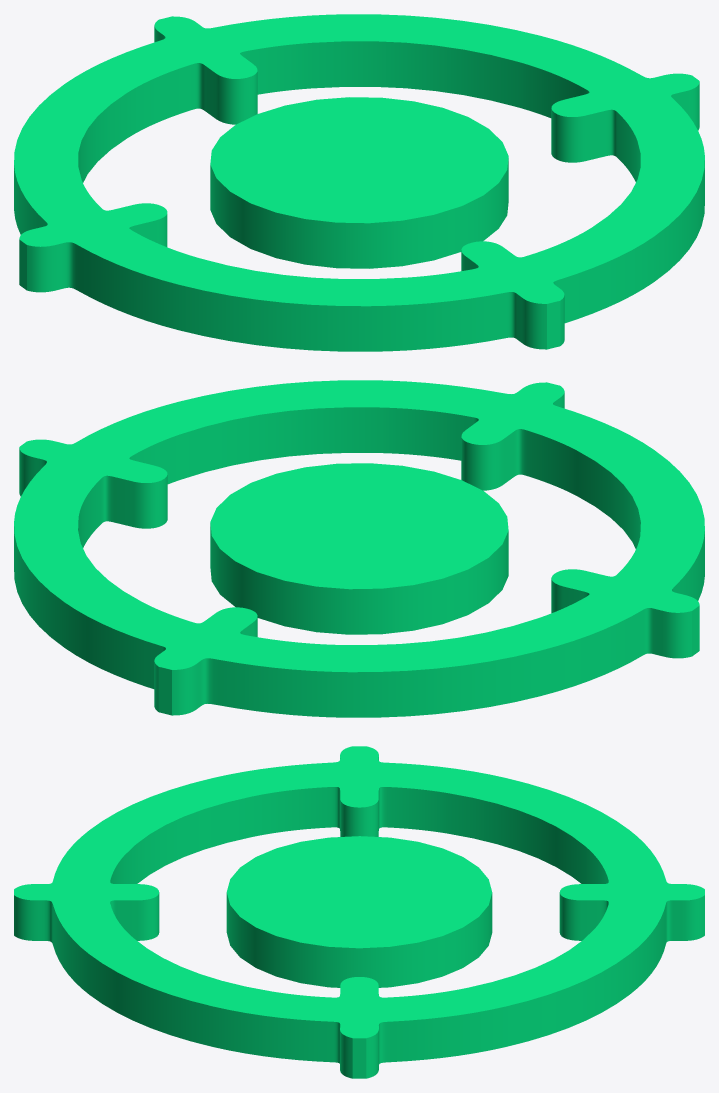
File: Gaze Pointer.fbx
3 views of the same model, one above another, from view 1: azimuth 30°, elevation 25°; view 2: azimuth 150°, elevation 25°; view 3: azimuth 270°, elevation 25° (orthographic). The views are drawn at different scales.
Visible parts, largest first — view 1: Shape1; view 2: Shape1; view 3: Shape1.
Part boxes in pixels (box(x1,y1,x2,y2)): Shape1: box(14, 14, 704, 351); Shape1: box(14, 380, 704, 717); Shape1: box(14, 746, 704, 1078).
Bounding box in the file's own units: 154 × 154 × 10.
